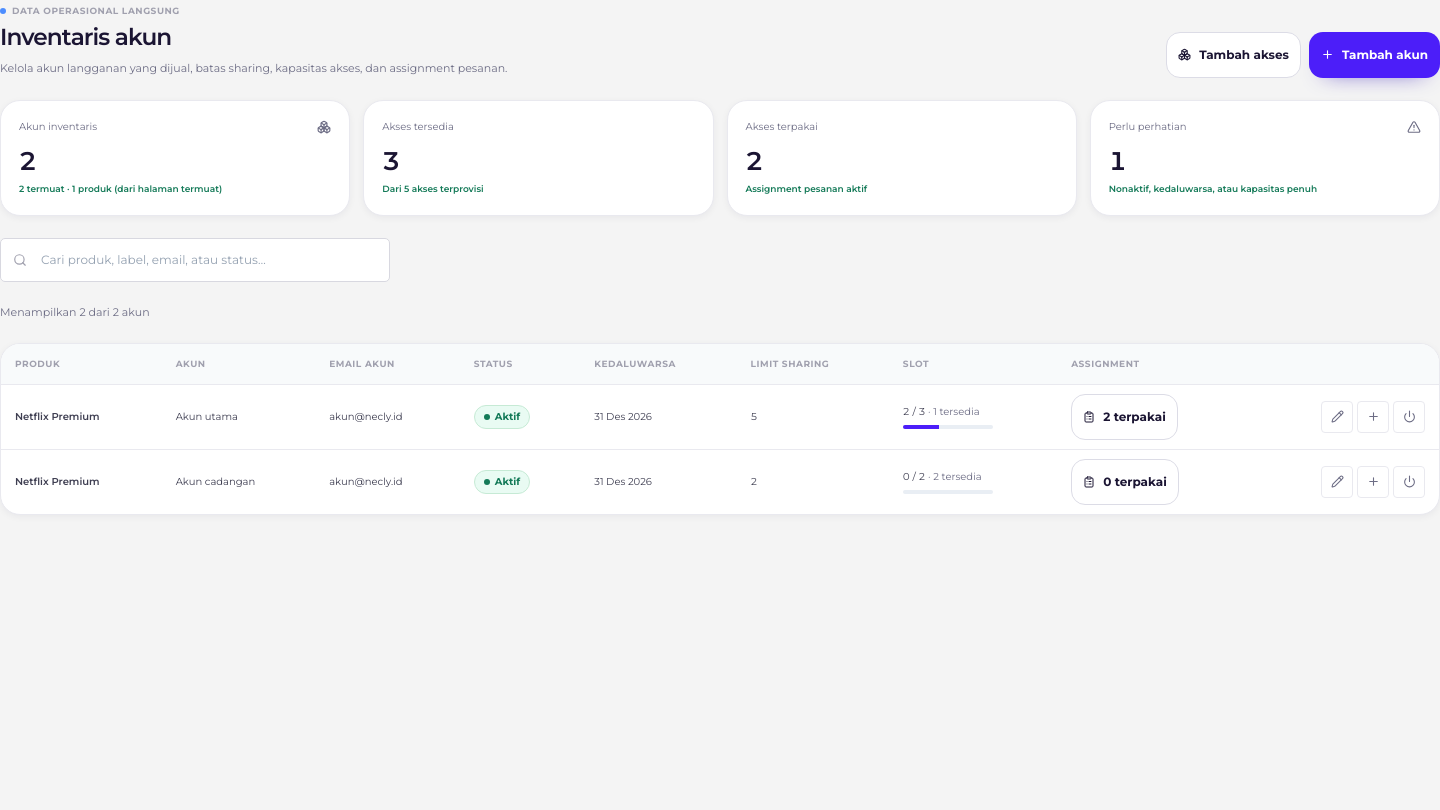
Test case: Halaman Inventaris akun › menampilkan konfirmasi sebelum menonaktifkan akun
Expected: the text "Akun utama" is shown, x1=162 y1=384 x2=315 y2=449
Click the button named "Nonaktifkan akun Akun utama".
click(1409, 417)  # box x1=1393 y1=401 x2=1425 y2=433
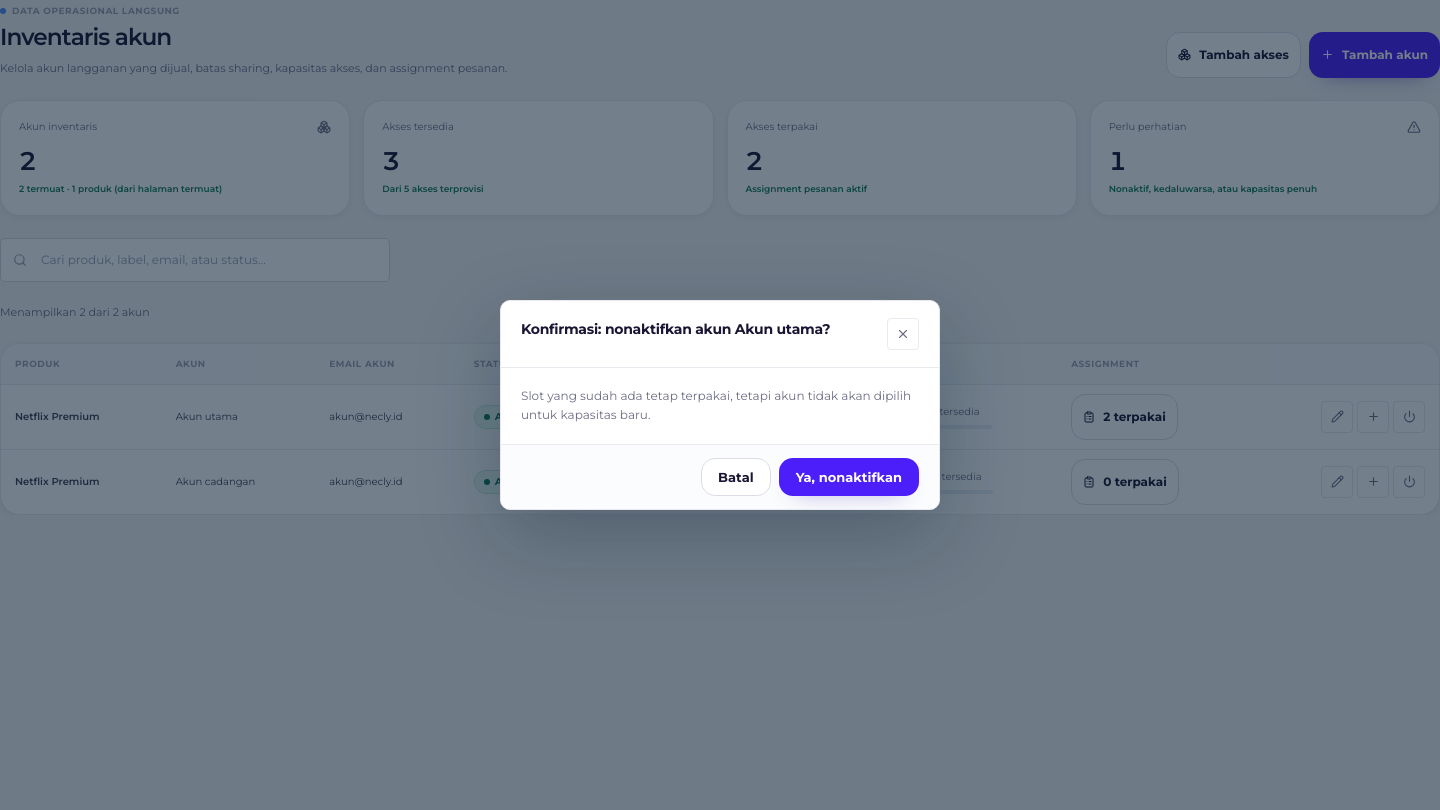
Result: the heading "Konfirmasi: nonaktifkan akun Akun utama?" is shown at x1=521 y1=318 x2=830 y2=340
Click the button "Ya, nonaktifkan".
click(849, 477)  # box x1=779 y1=458 x2=919 y2=496
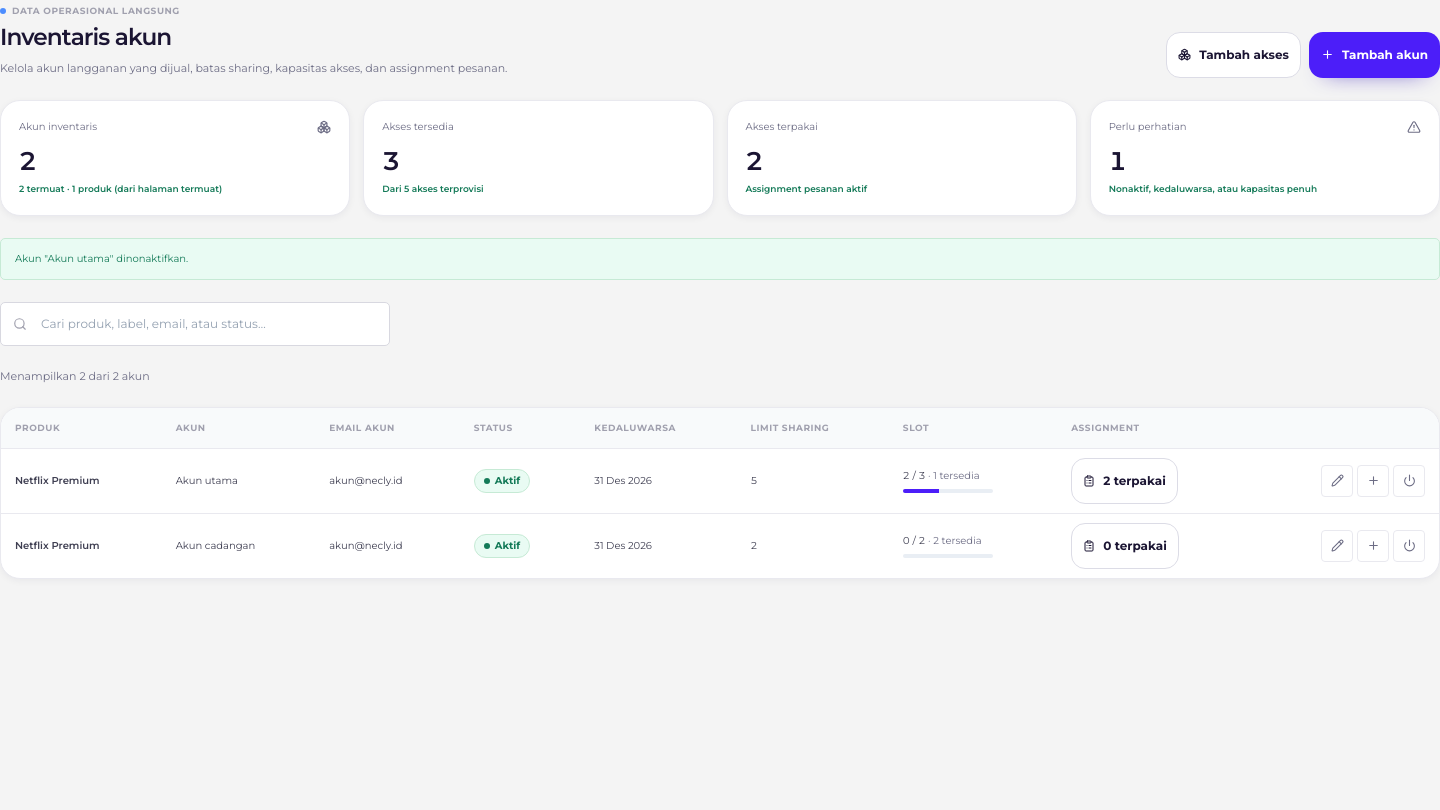
Result: the text "Akun \"Akun utama\" dinonaktifkan." is shown at x1=0 y1=238 x2=1439 y2=280
